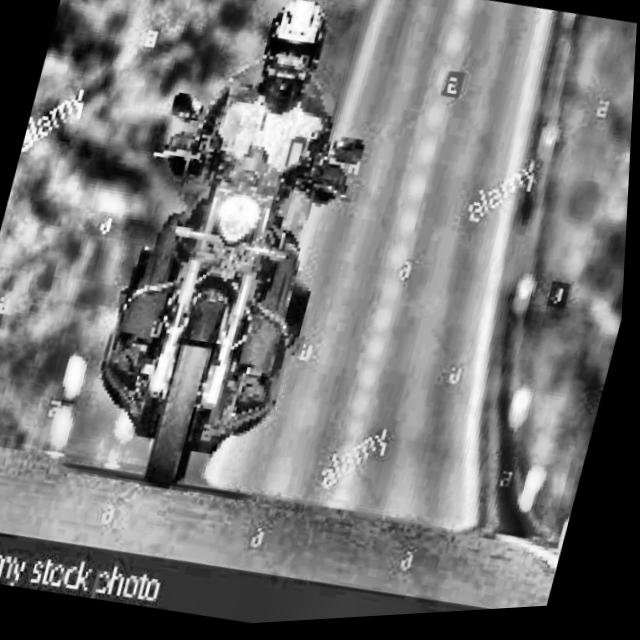motorcycle: (57, 62, 385, 524)
